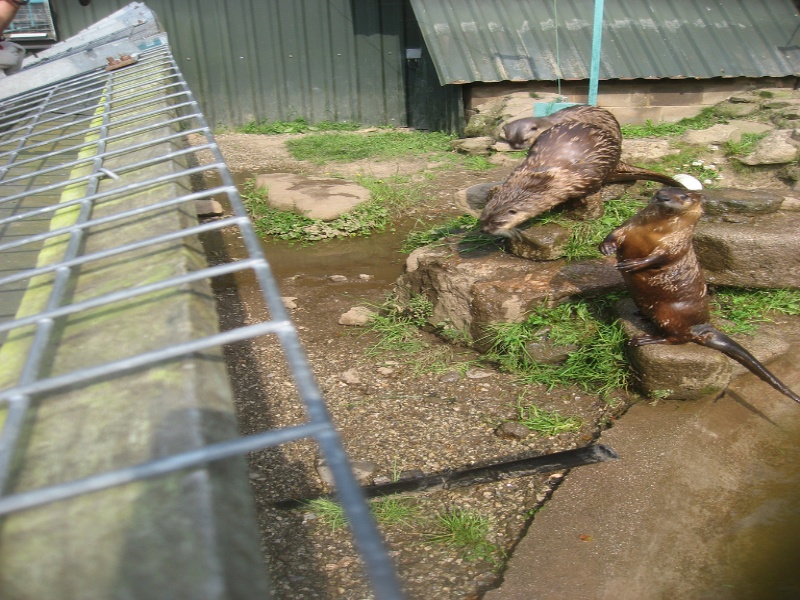minkish: (598, 184, 800, 405), (476, 124, 621, 245), (498, 102, 628, 164)
